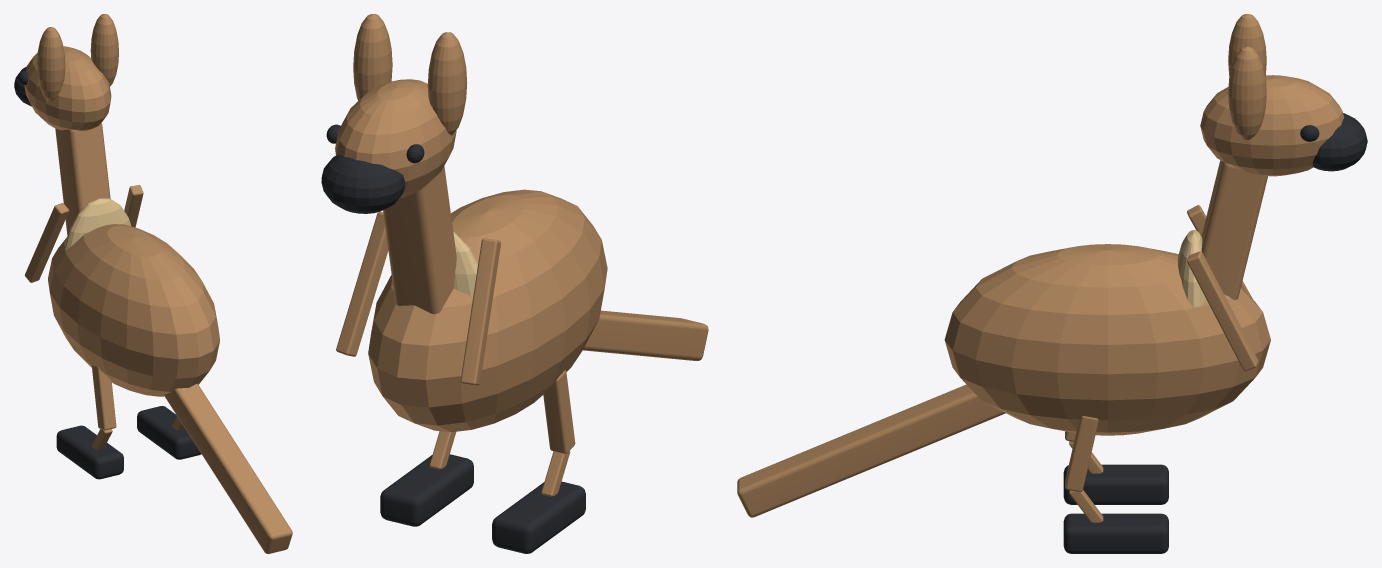
Rendered from kangaroo.glb.
3 views of the same model, side by side, from view 1: azimuth 30°, elevation 25°; view 2: azimuth 150°, elevation 25°; view 3: azimuth 270°, elevation 25° (orthographic). The views are drawn at different scales.
Visible parts, largest first — view 1: b5895e, dark.001, dark.002, sand, b5895e.001, dark; view 2: b5895e, dark.002, dark.001, dark, b5895e.001, sand, b5895e.002; view 3: b5895e, dark.002, dark.001, dark, b5895e.002, sand.
Boxes of the visible parts, <box> form: b5895e: <box>24,14,292,553</box>; dark.001: <box>56,425,123,479</box>; dark.002: <box>137,406,201,459</box>; sand: <box>64,198,131,250</box>; b5895e.001: <box>91,364,116,449</box>; dark: <box>14,66,31,106</box>; b5895e: <box>335,14,708,432</box>; dark.002: <box>380,454,473,526</box>; dark.001: <box>492,481,585,553</box>; dark: <box>321,124,424,213</box>; b5895e.001: <box>541,370,575,496</box>; sand: <box>391,232,477,297</box>; b5895e.002: <box>429,431,456,469</box>; b5895e: <box>737,14,1344,517</box>; dark.002: <box>1063,513,1168,553</box>; dark.001: <box>1063,464,1168,504</box>; dark: <box>1300,113,1367,171</box>; b5895e.002: <box>1065,416,1103,522</box>; sand: <box>1177,230,1205,307</box>.
Bounding box in the file's own units: 0.76 × 2.53 × 2.94.
